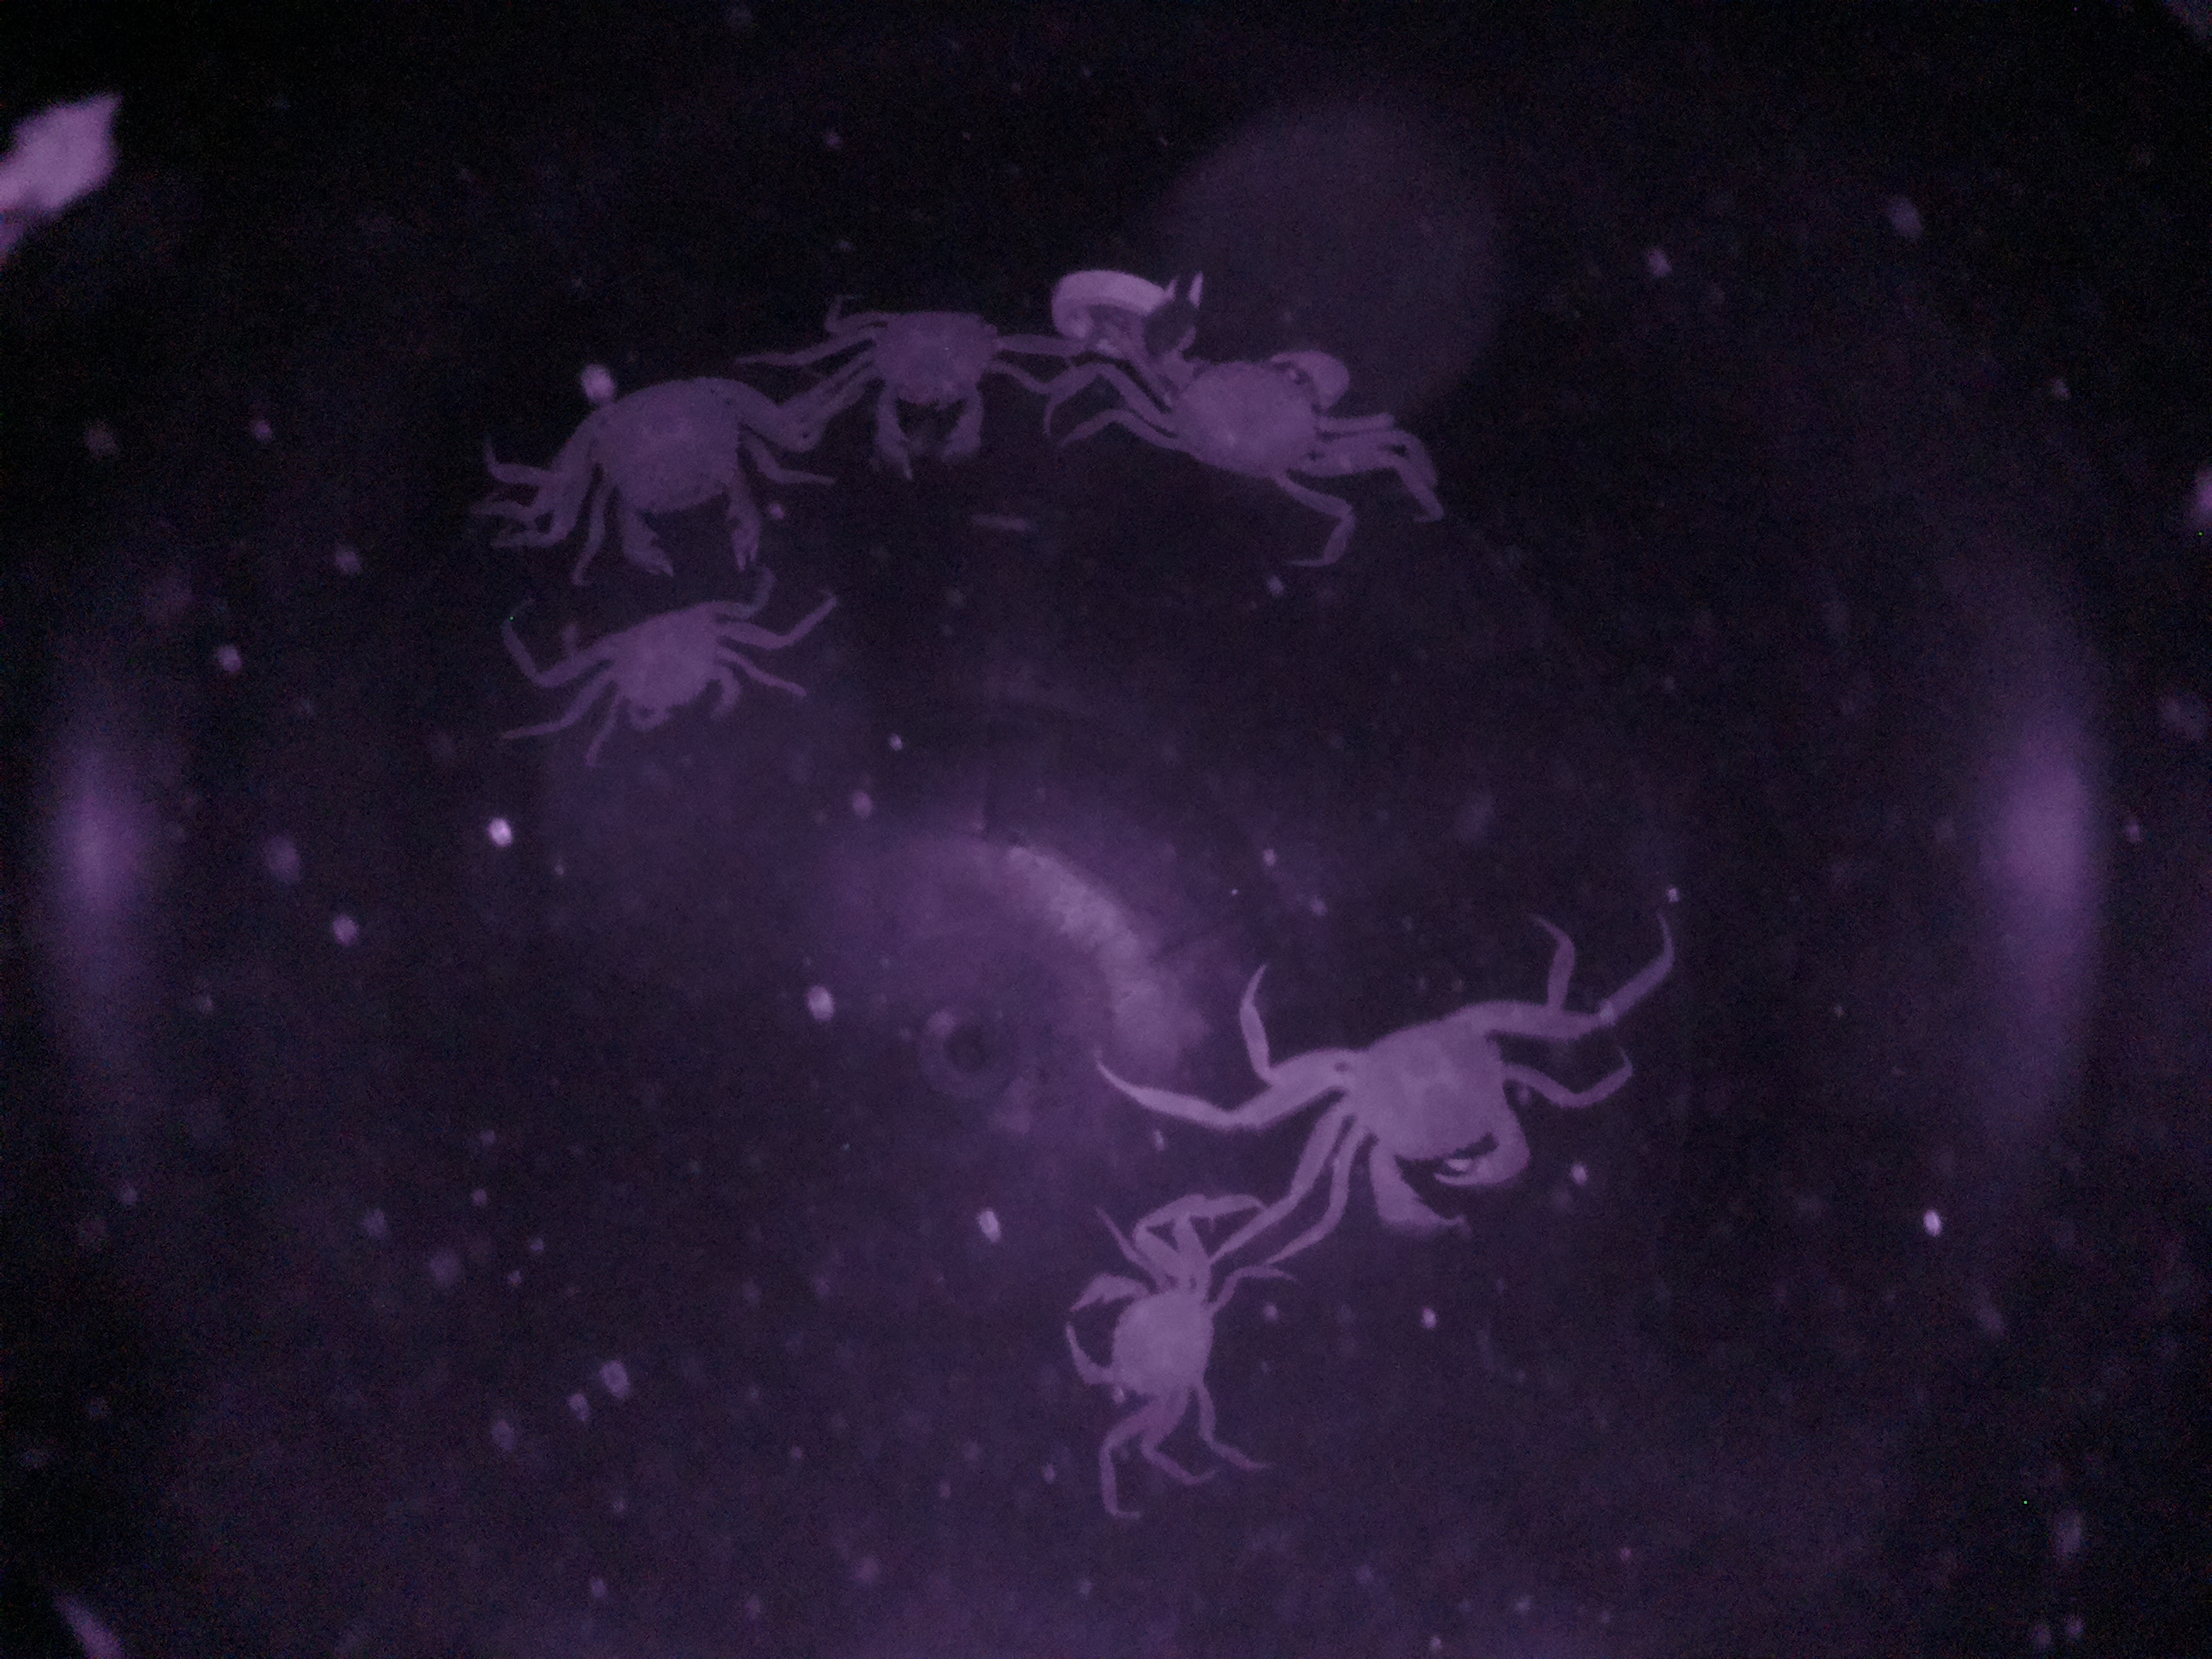Crab: (1282, 995, 1550, 1241), (1113, 310, 1378, 500), (545, 361, 787, 565), (836, 298, 1033, 495), (552, 579, 775, 751), (1059, 1223, 1228, 1431)
